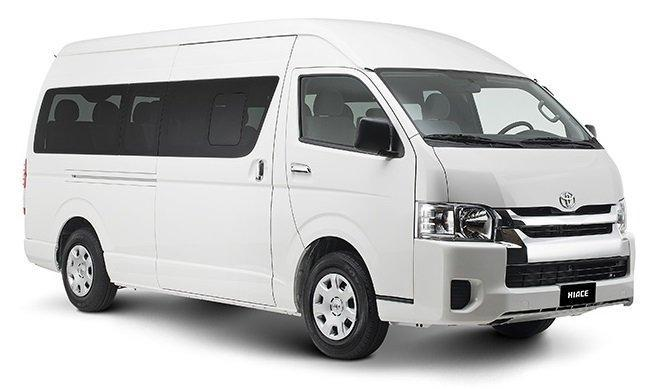car: (27, 11, 637, 363)
